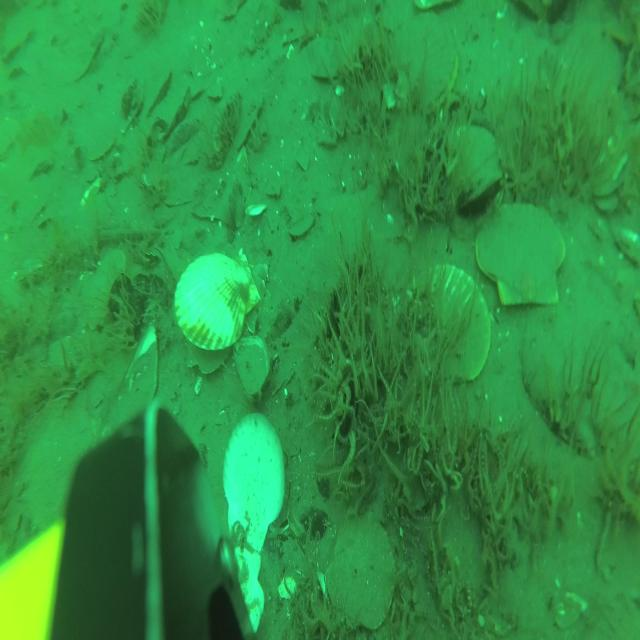scallop: (475, 198, 563, 312), (409, 268, 492, 388), (174, 251, 260, 361), (218, 419, 288, 550), (324, 514, 398, 633), (388, 14, 460, 117), (436, 123, 504, 207), (560, 29, 622, 114), (288, 216, 316, 242)
